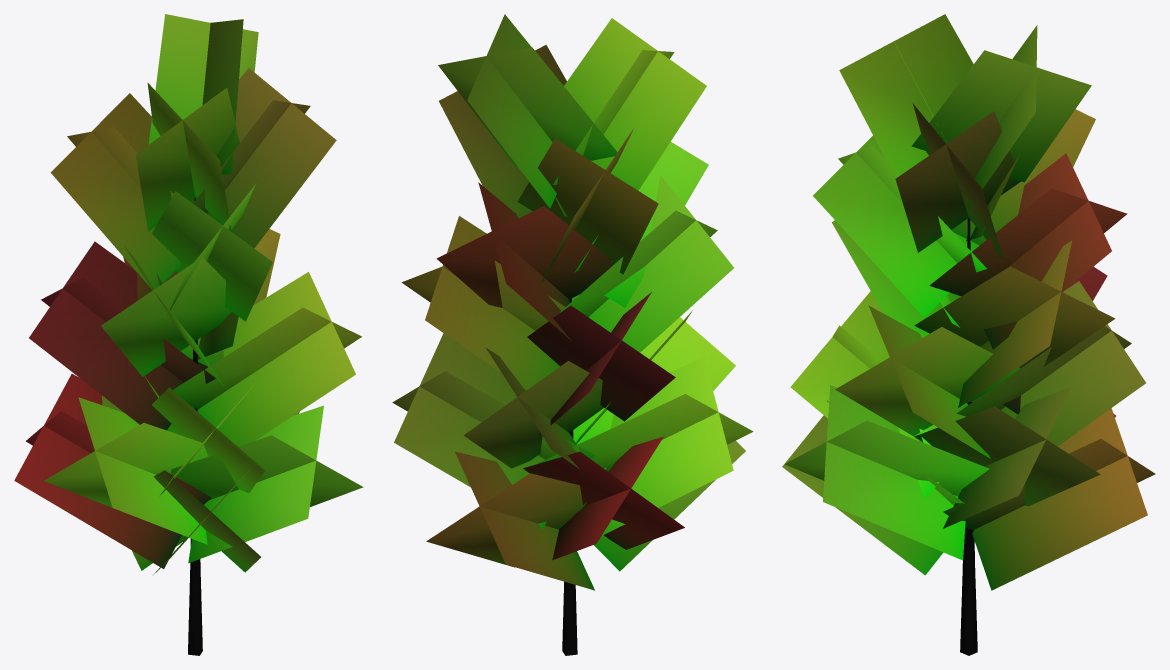
The model's file is SuperTree_3.fbx.
3 views of the same model, side by side, from view 1: azimuth 30°, elevation 25°; view 2: azimuth 150°, elevation 25°; view 3: azimuth 270°, elevation 25° (orthographic). The views are drawn at different scales.
Visible parts, largest first — view 1: SuperTree_3; view 2: SuperTree_3; view 3: SuperTree_3.
Part boxes in pixels (box(x1,y1,x2,y2)): SuperTree_3: box(14, 14, 363, 655); SuperTree_3: box(392, 14, 753, 655); SuperTree_3: box(782, 14, 1155, 655).
Size of the model in its own units: 508 by 979 by 527.
